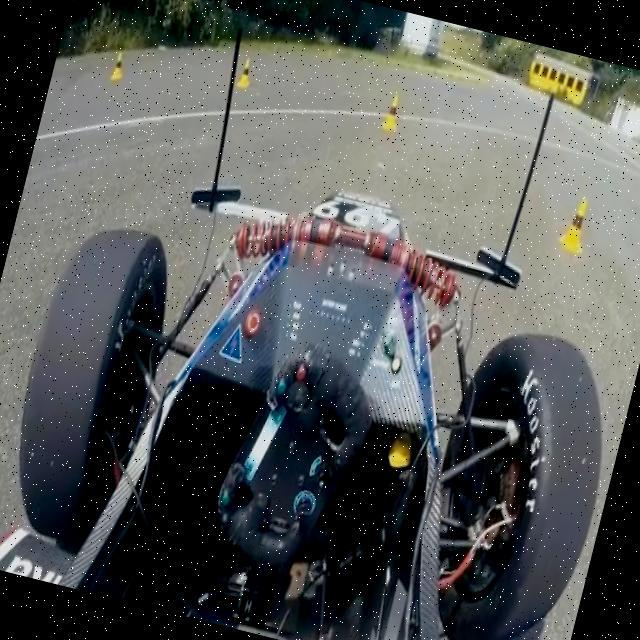yellow_cone: (556, 192, 596, 256), (380, 92, 406, 134), (234, 54, 256, 92), (108, 50, 130, 84)
